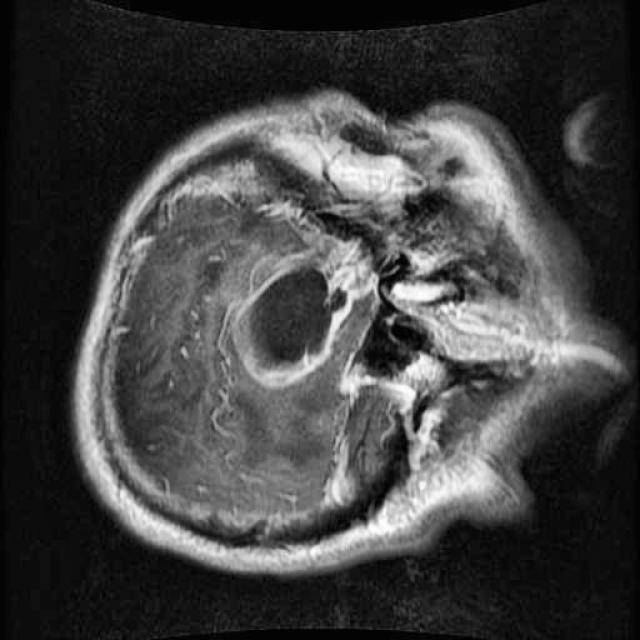Tumor: (213, 232, 367, 404)
